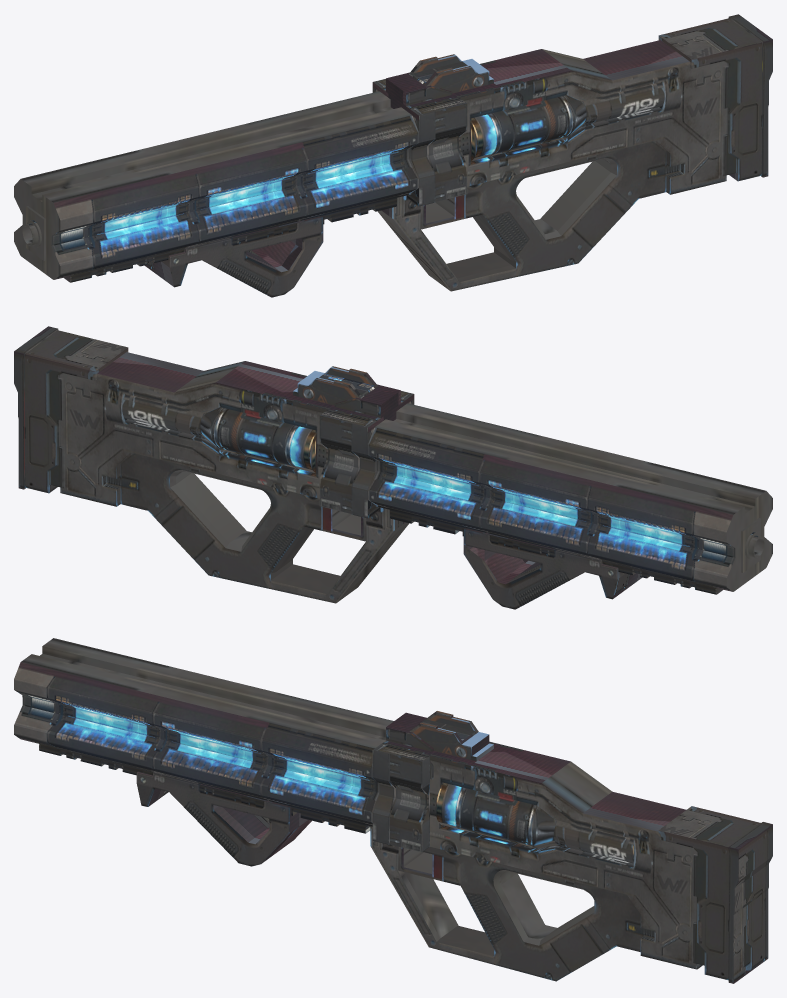
The model's file is blast.glb.
The picture shows the model from 3 angles, top to bottom: view 1: azimuth 30°, elevation 25°; view 2: azimuth 150°, elevation 25°; view 3: azimuth 330°, elevation 25°; orthographic projection.
Parts seen in each view (by area): view 1: Object_3; view 2: Object_3; view 3: Object_3.
Boxes of the visible parts, box(x1,y1,x2,y2) form: Object_3: box(14, 14, 772, 297); Object_3: box(14, 326, 772, 609); Object_3: box(14, 638, 772, 983).
Size of the model in its own units: 2.23 by 0.6499 by 0.2445.
2 materials, 1 textured.
